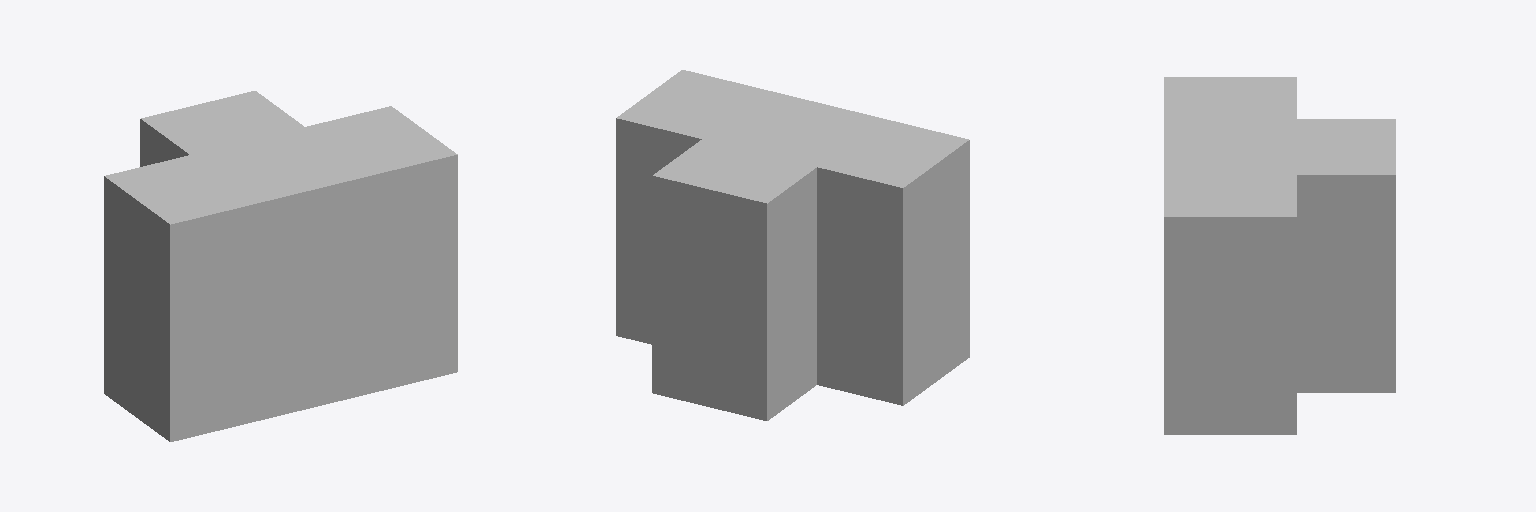
The model's file is FM_hedge_t.obj.
3 views of the same model, side by side, from view 1: azimuth 30°, elevation 25°; view 2: azimuth 150°, elevation 25°; view 3: azimuth 270°, elevation 25° (orthographic).
Parts seen in each view (by area): view 1: Cube.004_Cube.005; view 2: Cube.004_Cube.005; view 3: Cube.004_Cube.005.
Boxes of the visible parts, x1,y1,x2,y2 form: Cube.004_Cube.005: [104, 91, 457, 441]; Cube.004_Cube.005: [616, 70, 969, 420]; Cube.004_Cube.005: [1164, 77, 1395, 434].
Size of the model in its own units: 1 by 0.7242 by 0.7004.